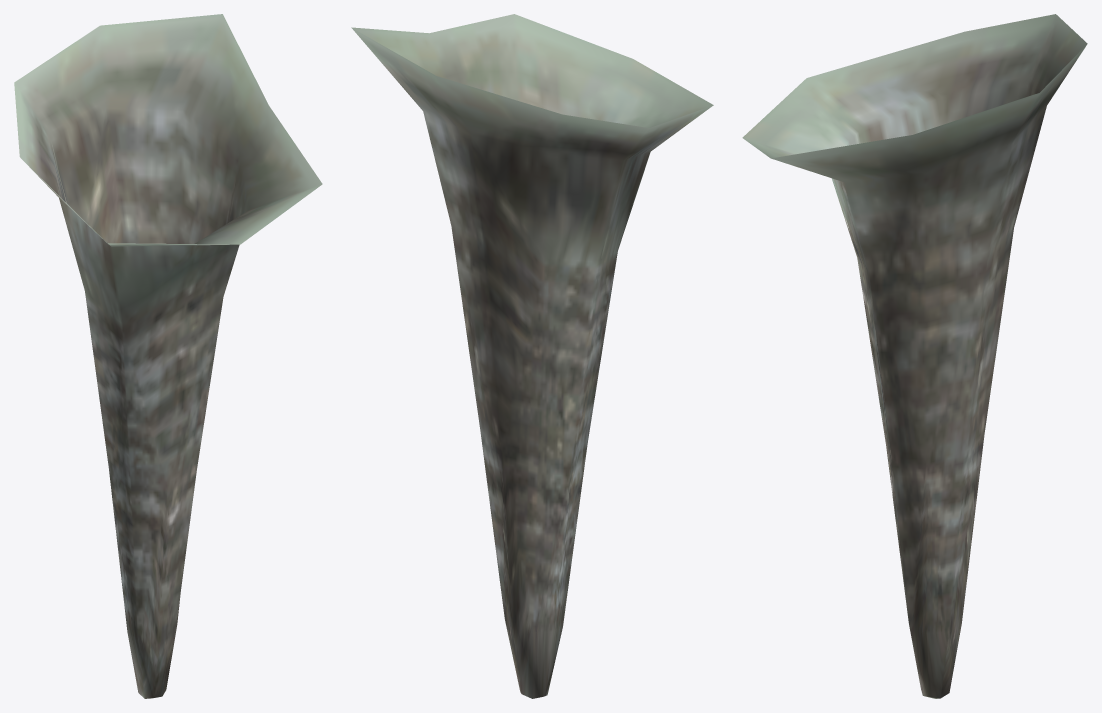
Rendered from TROLLHOLE02_PS-MAINSTALAG33.fbx.
The picture shows the model from 3 angles, left to right: view 1: azimuth 30°, elevation 25°; view 2: azimuth 150°, elevation 25°; view 3: azimuth 270°, elevation 25°; orthographic projection. The views are drawn at different scales.
Visible parts, largest first — view 1: TROLLHOLE02_PS-MAINSTALAG33; view 2: TROLLHOLE02_PS-MAINSTALAG33; view 3: TROLLHOLE02_PS-MAINSTALAG33.
Part boxes in pixels (left/top/right/bottom): TROLLHOLE02_PS-MAINSTALAG33: left=14, top=14, right=322, bottom=698; TROLLHOLE02_PS-MAINSTALAG33: left=351, top=14, right=713, bottom=698; TROLLHOLE02_PS-MAINSTALAG33: left=742, top=14, right=1087, bottom=698.
Bounding box in the file's own units: 8786 × 21882 × 10247.
1 material, 1 textured.
